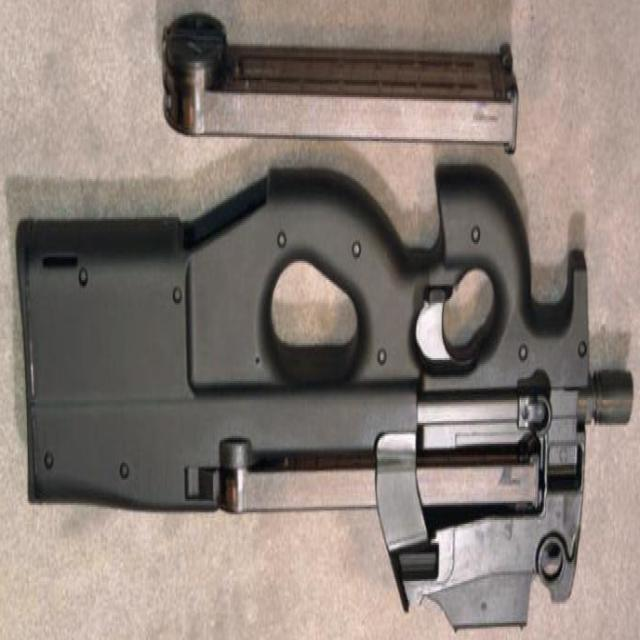Gun: (18, 39, 594, 600)
